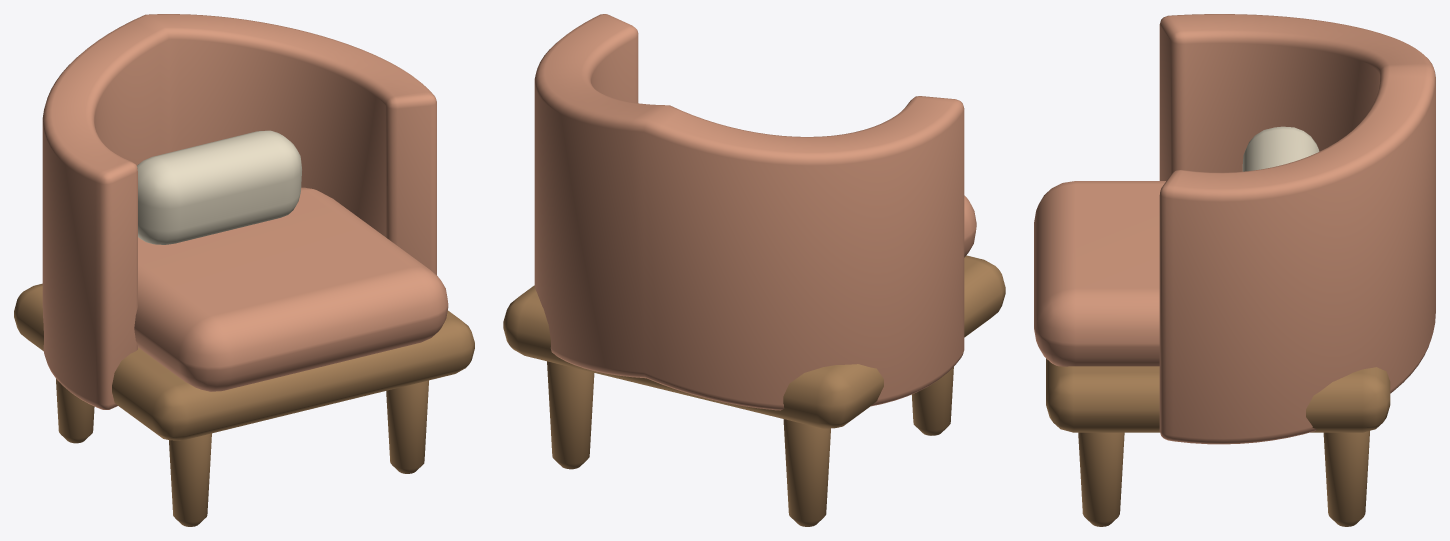
File: chair.glb
3 renders of one model, left to right at view 1: azimuth 30°, elevation 25°; view 2: azimuth 150°, elevation 25°; view 3: azimuth 270°, elevation 25°, orthographic. The views are drawn at different scales.
Parts seen in each view (by area): view 1: chair__Dye_Main_chair, chair__Oak_frame, chair__Oat_linen; view 2: chair__Dye_Main_chair, chair__Oak_frame; view 3: chair__Dye_Main_chair, chair__Oak_frame, chair__Oat_linen.
Boxes of the visible parts, x1,y1,x2,y2 form: chair__Dye_Main_chair: (42,14,448,409); chair__Oak_frame: (14,283,474,526); chair__Oat_linen: (137,130,301,244); chair__Dye_Main_chair: (534,14,976,410); chair__Oak_frame: (503,255,1005,526); chair__Dye_Main_chair: (1034,14,1435,444); chair__Oak_frame: (1046,358,1390,526); chair__Oat_linen: (1242,126,1319,171).
Size of the model in its own units: 1.09 by 1.11 by 1.01.
